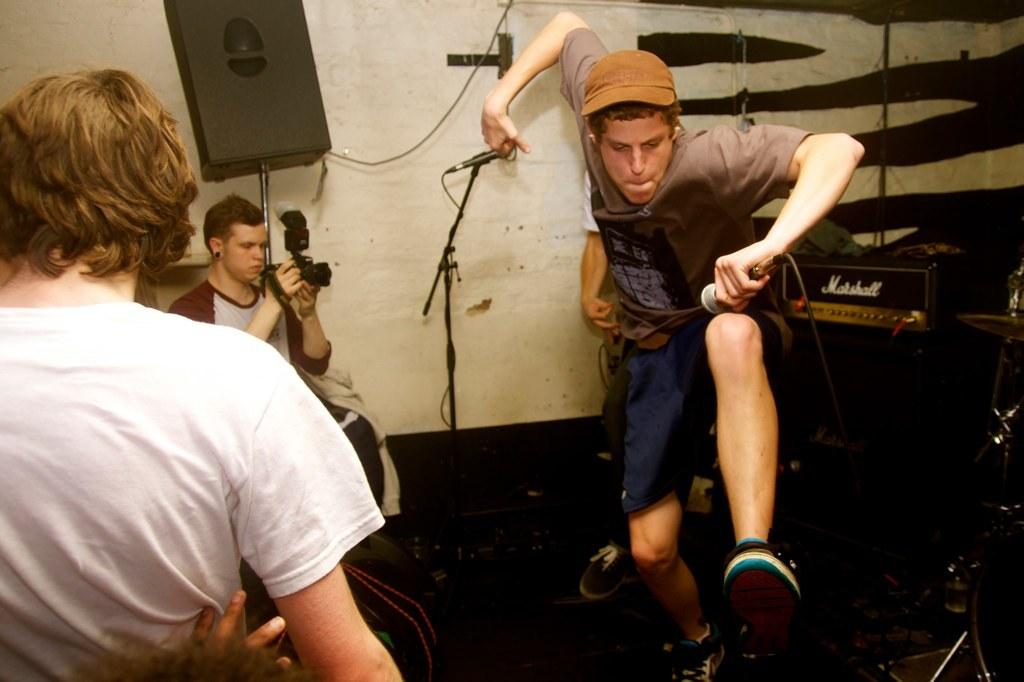Hat: (580, 46, 676, 118)
